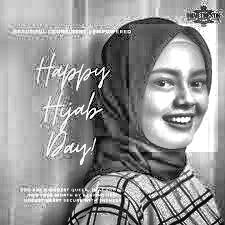happy: (129, 24, 218, 152)
